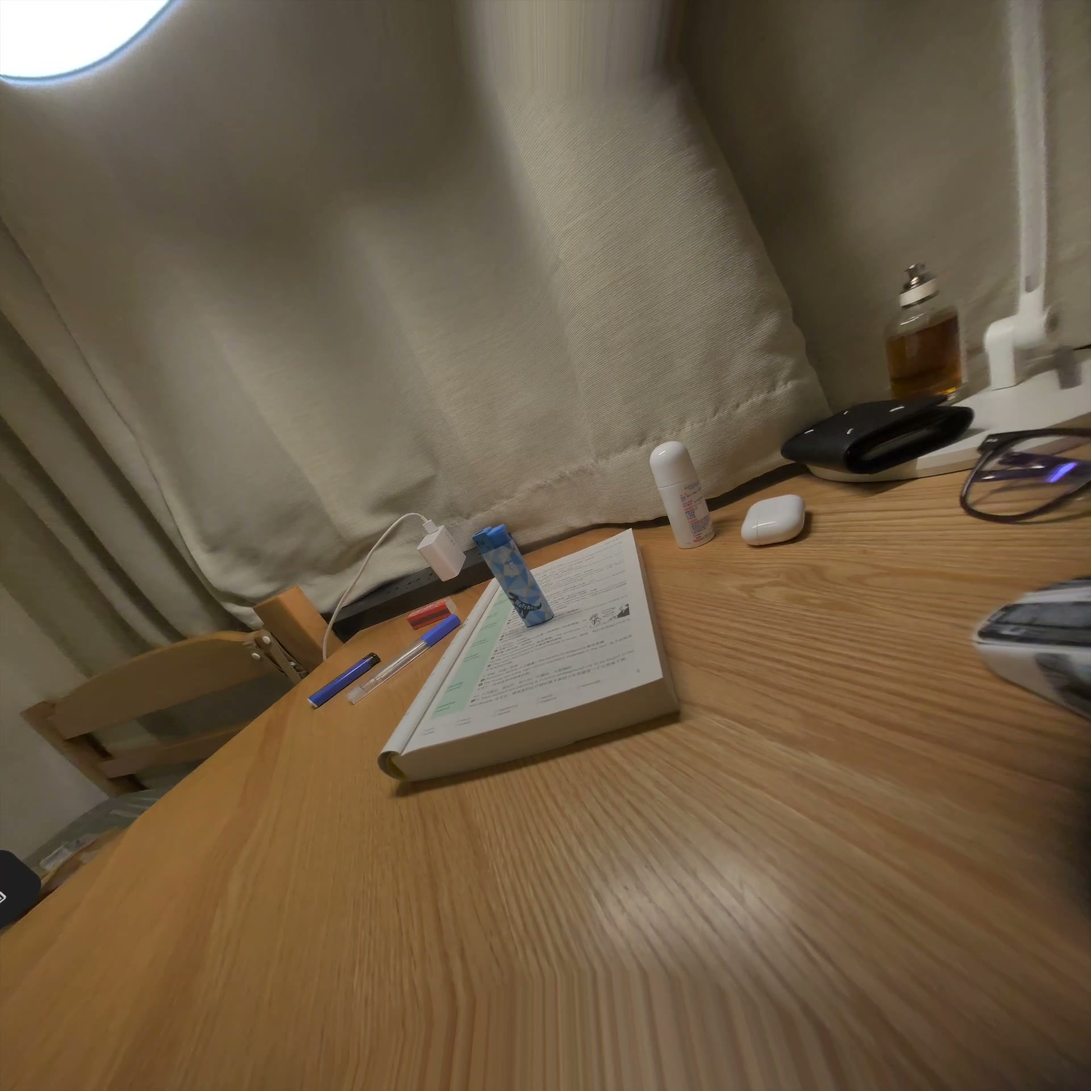lighter: (473, 525, 553, 627)
